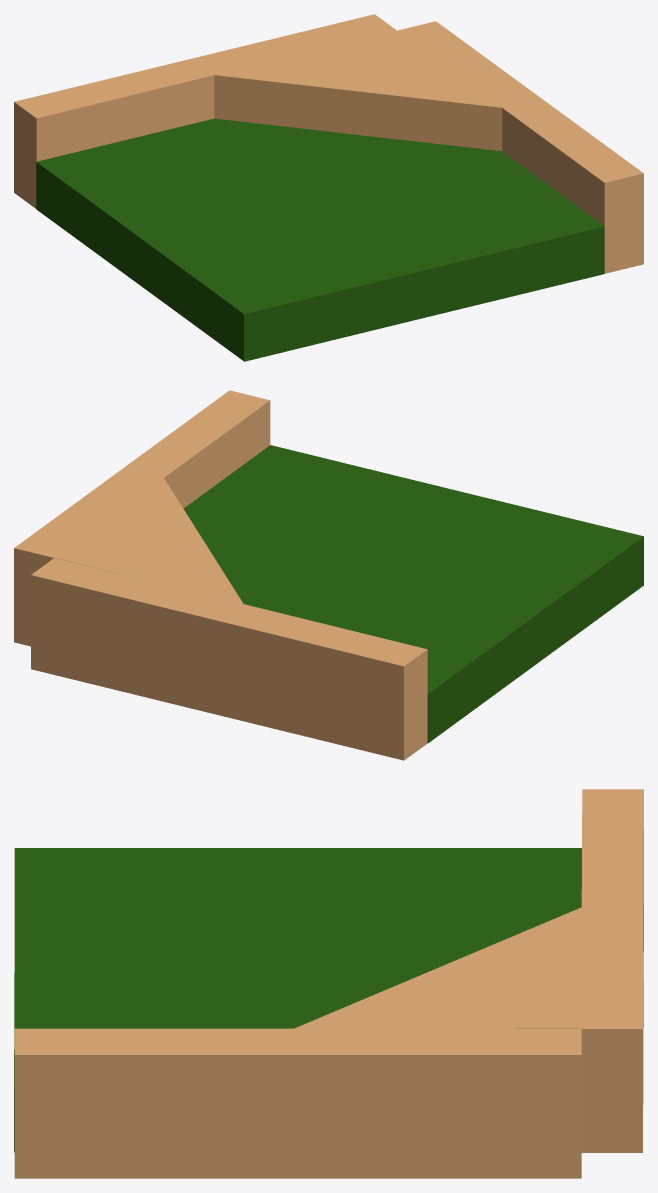
Rendered from NewLego7.fbx.
The picture shows the model from 3 angles, top to bottom: view 1: azimuth 30°, elevation 25°; view 2: azimuth 150°, elevation 25°; view 3: azimuth 270°, elevation 25°; orthographic projection. The views are drawn at different scales.
Parts seen in each view (by area): view 1: Cube.065, Cube.060; view 2: Cube.060, Cube.065; view 3: Cube.060, Cube.065.
Part boxes in pixels (left/top/right/bottom): Cube.065: left=36, top=118, right=604, bottom=361; Cube.060: left=14, top=14, right=643, bottom=273; Cube.060: left=14, top=390, right=427, bottom=760; Cube.065: left=183, top=445, right=643, bottom=743; Cube.060: left=14, top=789, right=643, bottom=1178; Cube.065: left=14, top=848, right=581, bottom=1152.
Bounding box in the file's own units: 201 × 43.72 × 201.
